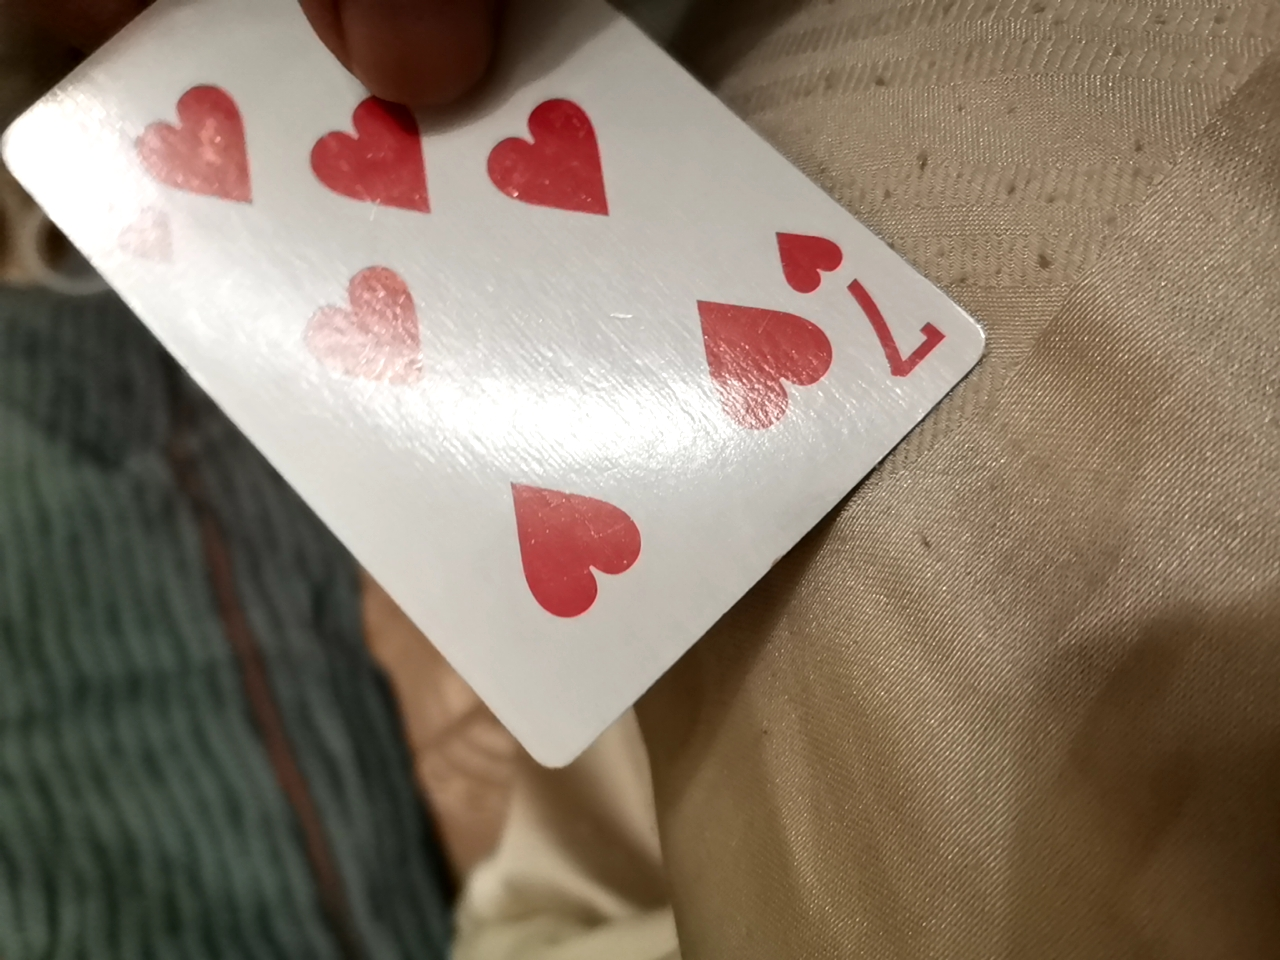hx 7: (26, 12, 982, 794)
